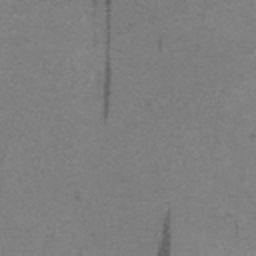Red iron sheet: (104, 0, 111, 120), (157, 210, 171, 256), (158, 38, 163, 52)
